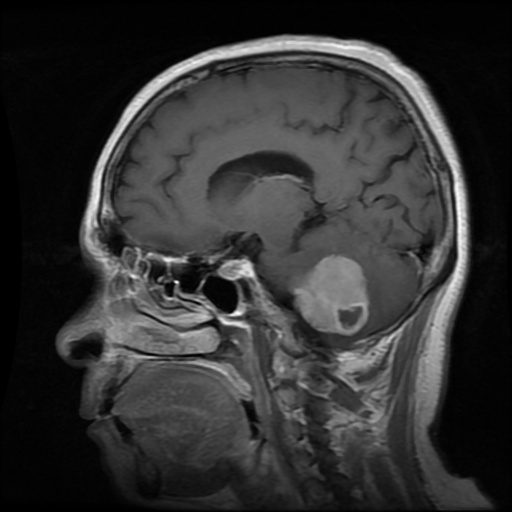meningioma: (294, 254, 368, 335)
